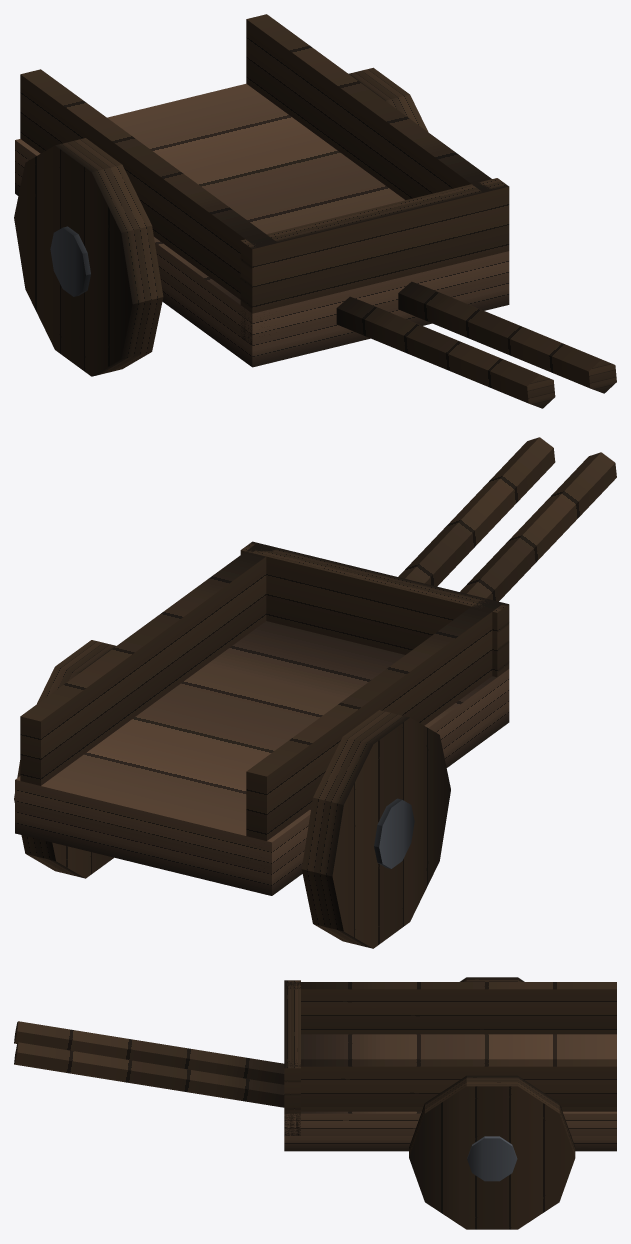
The model's file is cart.gltf.
3 renders of one model, top to bottom at view 1: azimuth 30°, elevation 25°; view 2: azimuth 150°, elevation 25°; view 3: azimuth 270°, elevation 25°, orthographic. The views are drawn at different scales.
Parts seen in each view (by area): view 1: cart; view 2: cart; view 3: cart.
Boxes of the visible parts, x1,y1,x2,y2 form: cart: [14, 14, 616, 408]; cart: [14, 437, 616, 948]; cart: [14, 977, 616, 1229].
Bounding box in the file's own units: 0.64 × 0.4002 × 1.45.
1 material, 1 textured.
